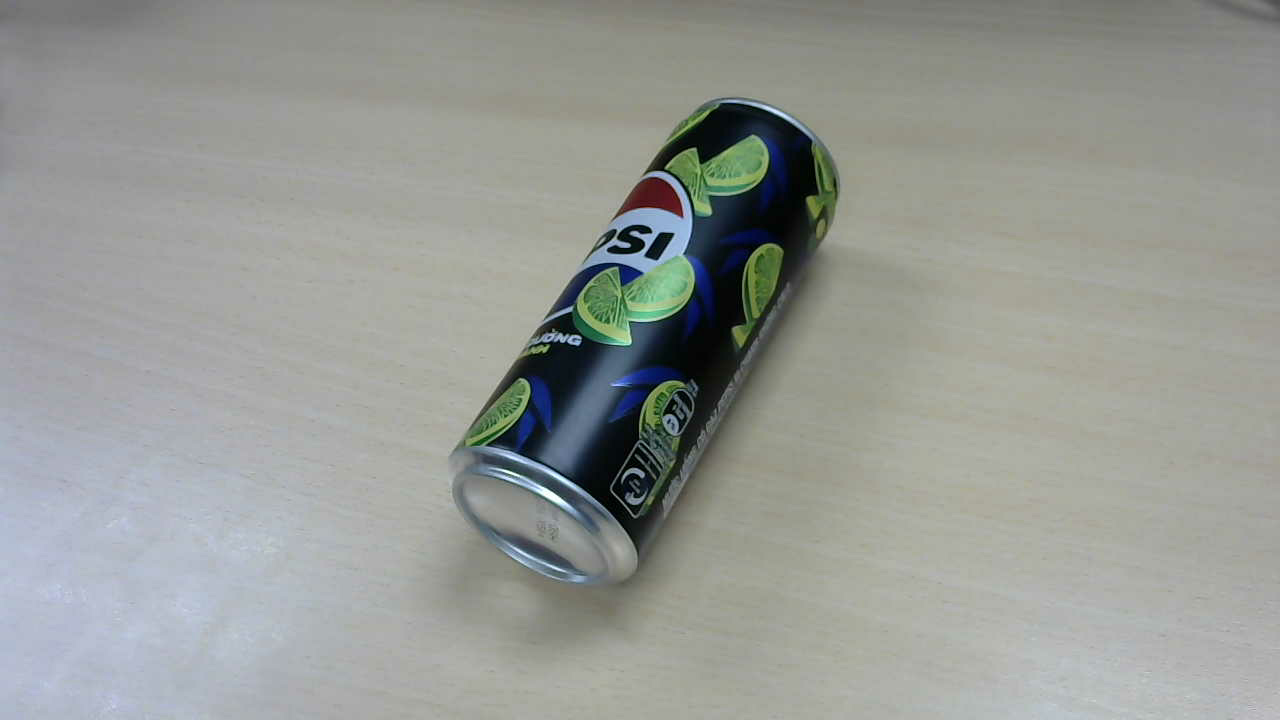Pepsi: (447, 98, 847, 600)
